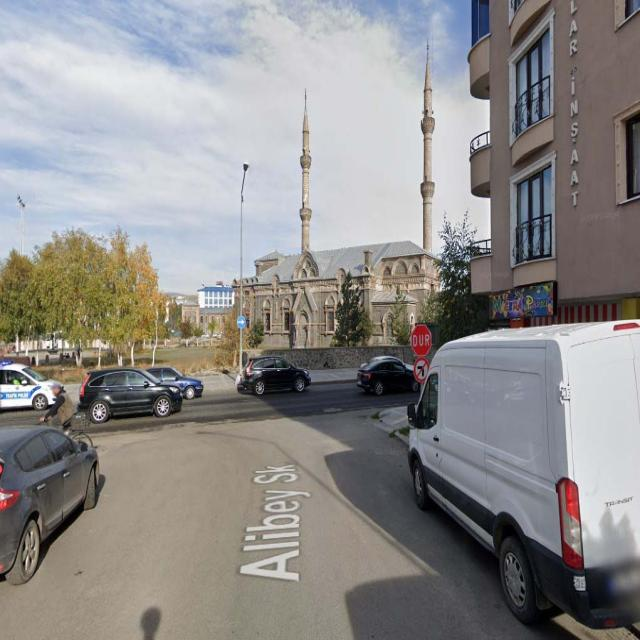dur: (412, 325, 432, 355)
sag: (237, 315, 244, 328)
soladonulmez: (412, 357, 430, 381)
